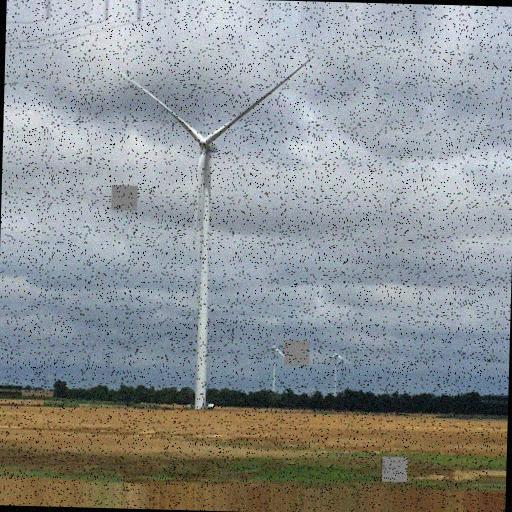wind turbine: (110, 56, 312, 406)
